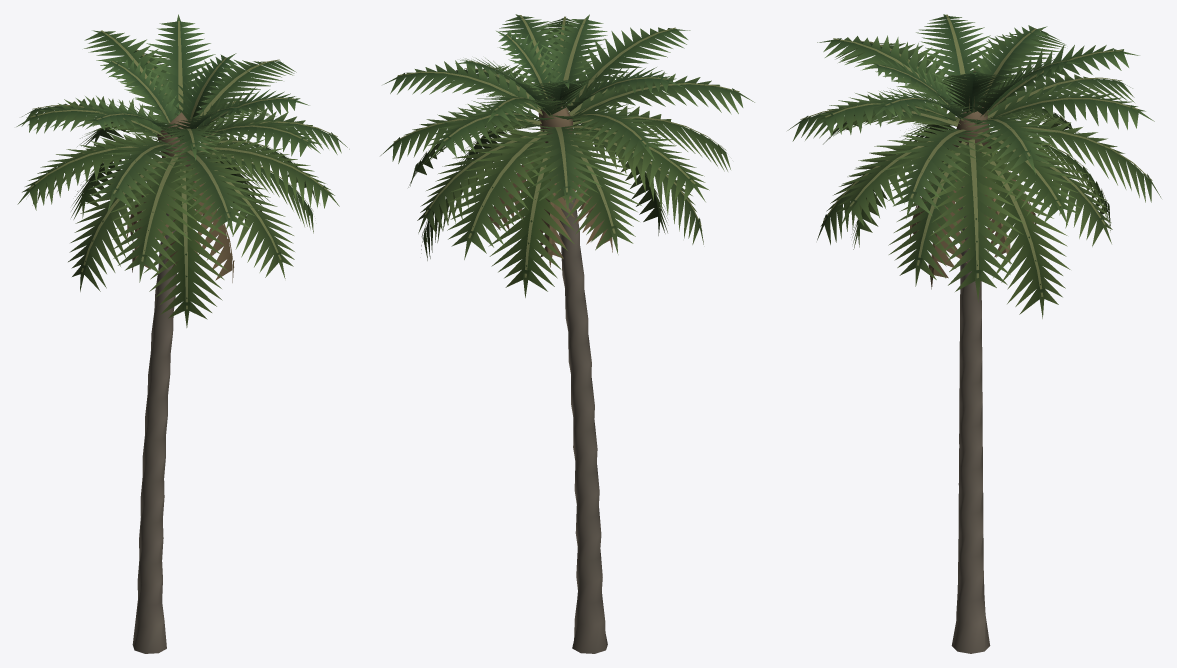
Rendered from tree_palm.8692811b8c.glb.
3 views of the same model, side by side, from view 1: azimuth 30°, elevation 25°; view 2: azimuth 150°, elevation 25°; view 3: azimuth 270°, elevation 25° (orthographic). The views are drawn at different scales.
Visible parts, largest first — view 1: tree_palm_LOD0; view 2: tree_palm_LOD0; view 3: tree_palm_LOD0.
Part boxes in pixels (x1,y1,x2,y2): tree_palm_LOD0: [16, 14, 349, 653]; tree_palm_LOD0: [380, 14, 754, 653]; tree_palm_LOD0: [787, 14, 1161, 653].
Size of what is drawn, in the model's own units: 27.65 by 51.89 by 28.46.
